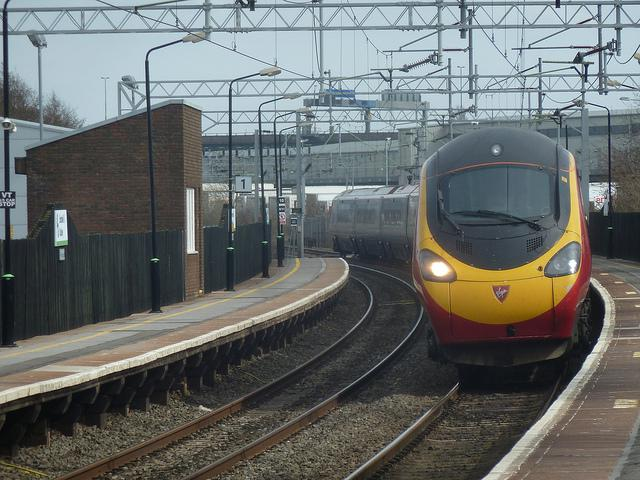Train: (301, 126, 589, 382)
